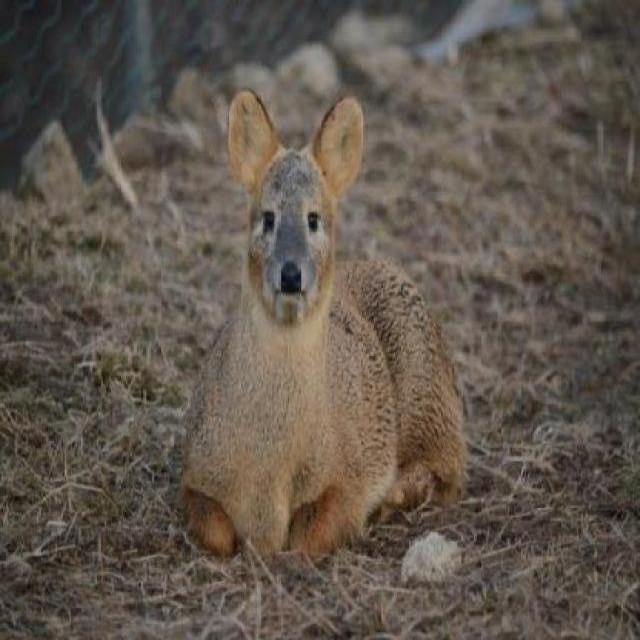deer: (165, 77, 488, 584)
